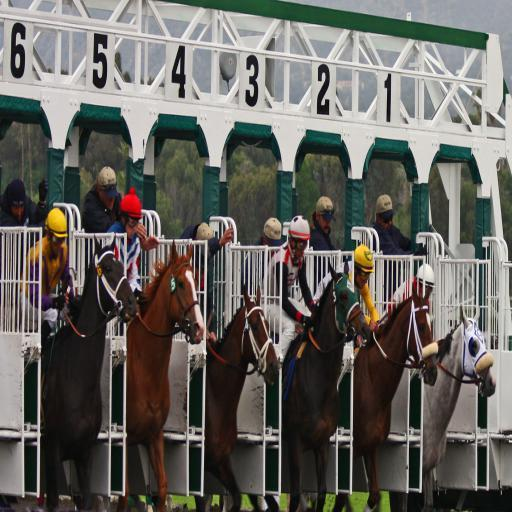horse: (22, 232, 138, 512), (266, 258, 370, 512), (114, 237, 204, 512), (189, 280, 280, 512), (351, 280, 439, 512), (422, 302, 496, 512)
